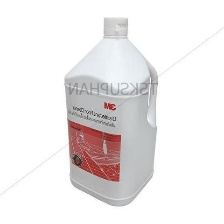cleaning_solution: (63, 14, 161, 209)
